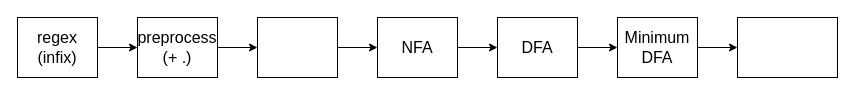
This 855x95 diagram has some shape labels left out. The shapes that lost their labels are listed below. From the top down, each one's centre as x and y in pixels, then its label:
the point at 297,47: regex (postfix)
the point at 787,47: Equivalence Test
